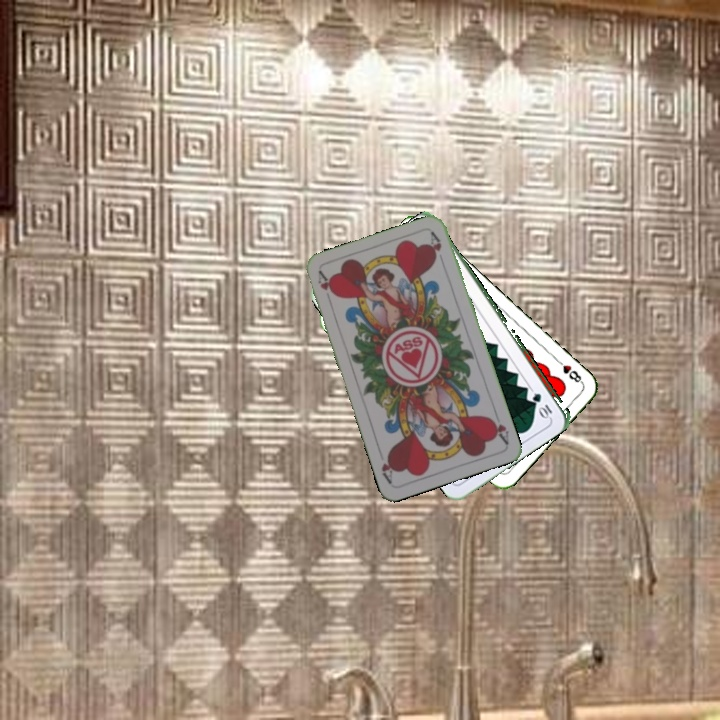G10: (529, 389, 555, 420)
H8: (552, 355, 586, 386)
HA: (486, 407, 511, 446), (314, 267, 338, 307)
